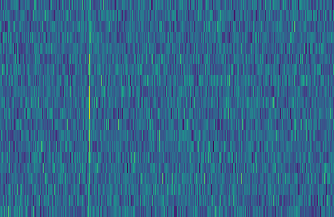signal: (81, 0, 92, 217)
